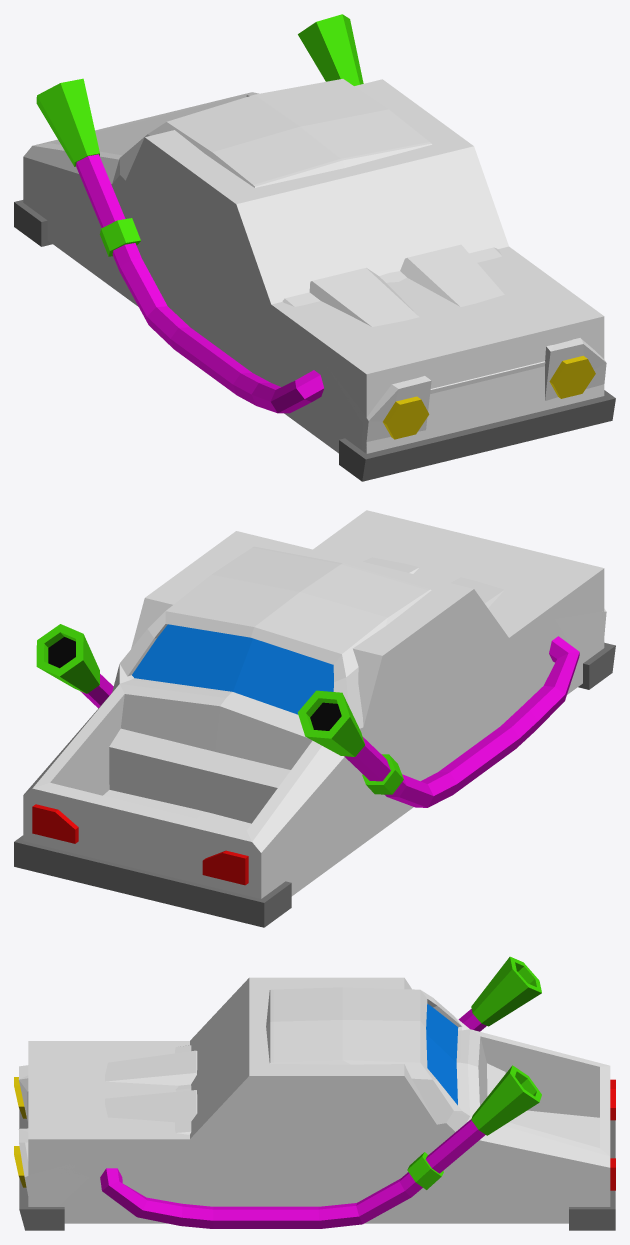
File: PlayerCarV2.fbx
3 renders of one model, top to bottom at view 1: azimuth 30°, elevation 25°; view 2: azimuth 150°, elevation 25°; view 3: azimuth 270°, elevation 25°, orthographic. The views are drawn at different scales.
Visible parts, largest first — view 1: CarBase, PlayerCar; view 2: PlayerCar, CarBase; view 3: PlayerCar, CarBase.
Boxes of the visible parts, box(x1,y1,x2,y2) form: CarBase: box(85, 79, 604, 453); PlayerCar: box(14, 14, 615, 481); PlayerCar: box(14, 546, 615, 927); CarBase: box(109, 510, 604, 845); PlayerCar: box(14, 956, 615, 1230); CarBase: box(28, 977, 505, 1223).
Bounding box in the file's own units: 263 × 155 × 517.
